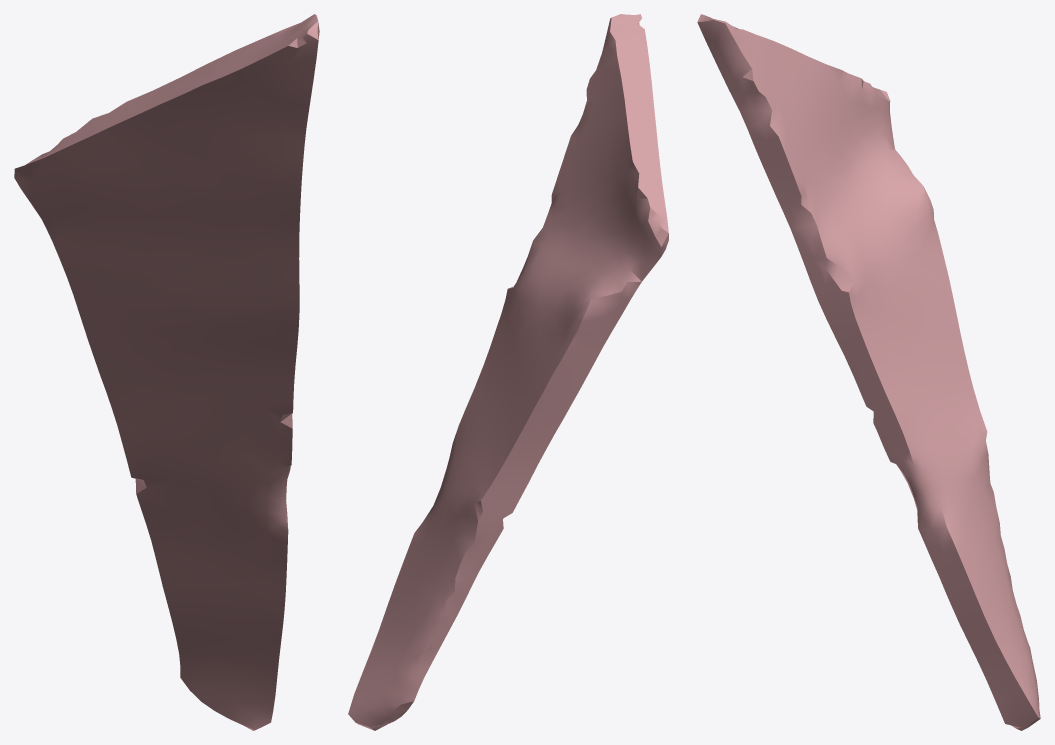
Rendered from fma78445-r_mm3094m.glb.
The picture shows the model from 3 angles, left to right: view 1: azimuth 30°, elevation 25°; view 2: azimuth 150°, elevation 25°; view 3: azimuth 270°, elevation 25°; orthographic projection. The views are drawn at different scales.
Parts seen in each view (by area): view 1: FMA78445-R_MM3094M; view 2: FMA78445-R_MM3094M; view 3: FMA78445-R_MM3094M.
Boxes of the visible parts, x1,y1,x2,y2 form: FMA78445-R_MM3094M: (14, 14, 319, 730); FMA78445-R_MM3094M: (348, 14, 668, 730); FMA78445-R_MM3094M: (697, 14, 1040, 730).
Bounding box in the file's own units: 0.00477 × 0.0116 × 0.0055.
